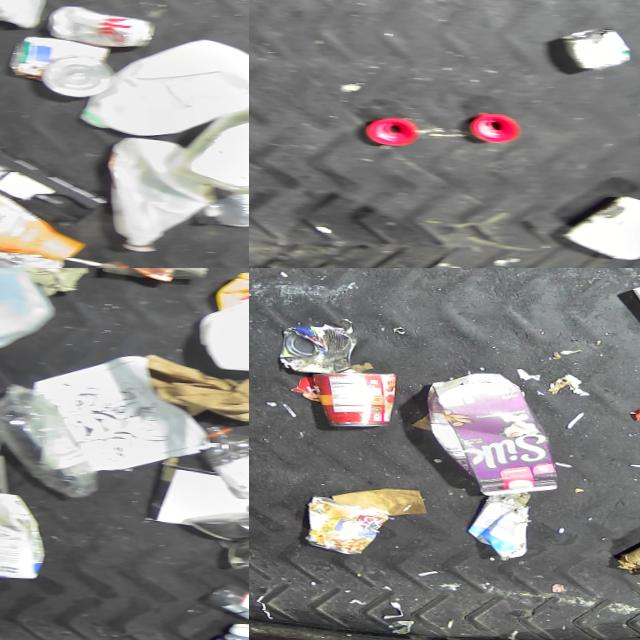can: (558, 193, 640, 263), (301, 494, 388, 556), (308, 370, 397, 430), (43, 5, 153, 49), (274, 322, 358, 375), (552, 25, 633, 73), (185, 513, 249, 573), (39, 55, 113, 99)
milk_jug: (72, 34, 249, 140), (101, 136, 219, 249), (193, 290, 249, 378), (0, 268, 53, 360)
non_white_jug: (417, 371, 559, 498), (0, 190, 83, 261)
plastic_bottle: (190, 426, 249, 508)
